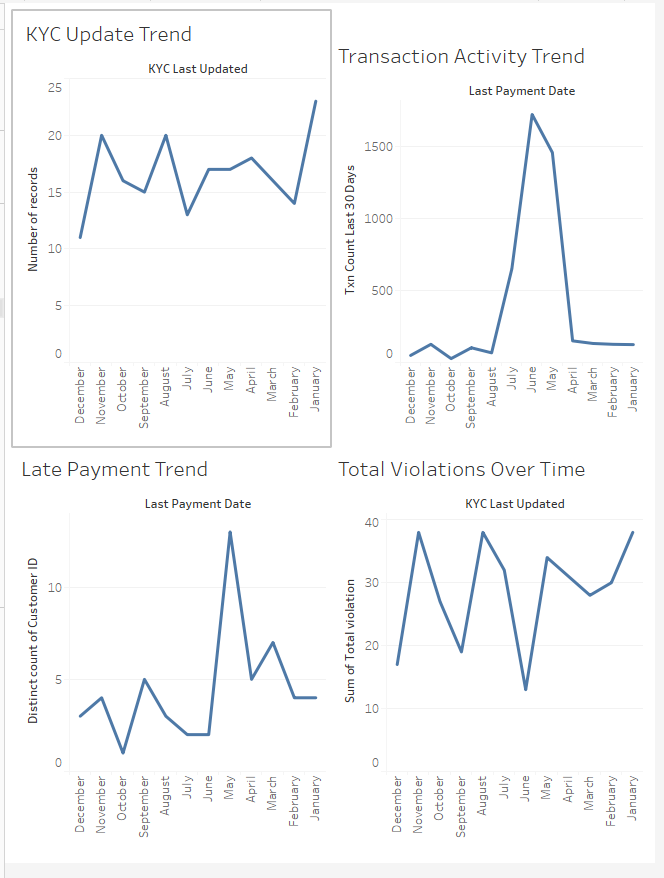

The dashboard page shown, as its layout file describes it:
{"tool":"tableau","page":{"name":"Time Trends","canvas":[650,860],"ordinal":1},"visuals":[{"type":"worksheet","title":" KYC Update Trend","mark":"Line","rows":["Calculation_770397042264502274"],"cols":["KYC_Last_Updated"],"box":[8,8,317,435]},{"type":"legend","title":" KYC Update Trend","param":"[federated.12z40f80fa0jqb1524li2008l3l0].[none:Calculation_770397042267738115:nk","box":[325,8,317,22]},{"type":"worksheet","title":"Transaction Activity Trend","mark":"Line","rows":["Txn_Count_Last_30_Days"],"cols":["Last_Payment_Date"],"box":[325,30,317,413]},{"type":"worksheet","title":"Late Payment Trend","mark":"Line","rows":["Customer_ID"],"cols":["Last_Payment_Date"],"box":[8,443,317,409]},{"type":"worksheet","title":"Total Violations Over Time","mark":"Automatic","rows":["Total_violation"],"cols":["KYC_Last_Updated"],"box":[325,443,317,409]}]}

Visuals, with their boxes in screenshot pixels (x1, y1, x2, y2), scaled from the page's 650x860 canvas onto the 664x878 screenshot:
" KYC Update Trend" worksheet (Line marks): <region>8, 8, 332, 452</region>
" KYC Update Trend" legend: <region>332, 8, 656, 31</region>
"Transaction Activity Trend" worksheet (Line marks): <region>332, 31, 656, 452</region>
"Late Payment Trend" worksheet (Line marks): <region>8, 452, 332, 870</region>
"Total Violations Over Time" worksheet: <region>332, 452, 656, 870</region>
